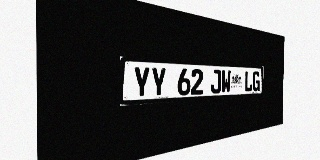2: (191, 69, 203, 95)
6: (177, 68, 191, 96)
G: (252, 71, 260, 91)
J: (211, 69, 221, 94)
L: (244, 71, 252, 92)
W: (221, 70, 231, 93)
Y: (133, 66, 150, 98), (151, 67, 166, 97)
